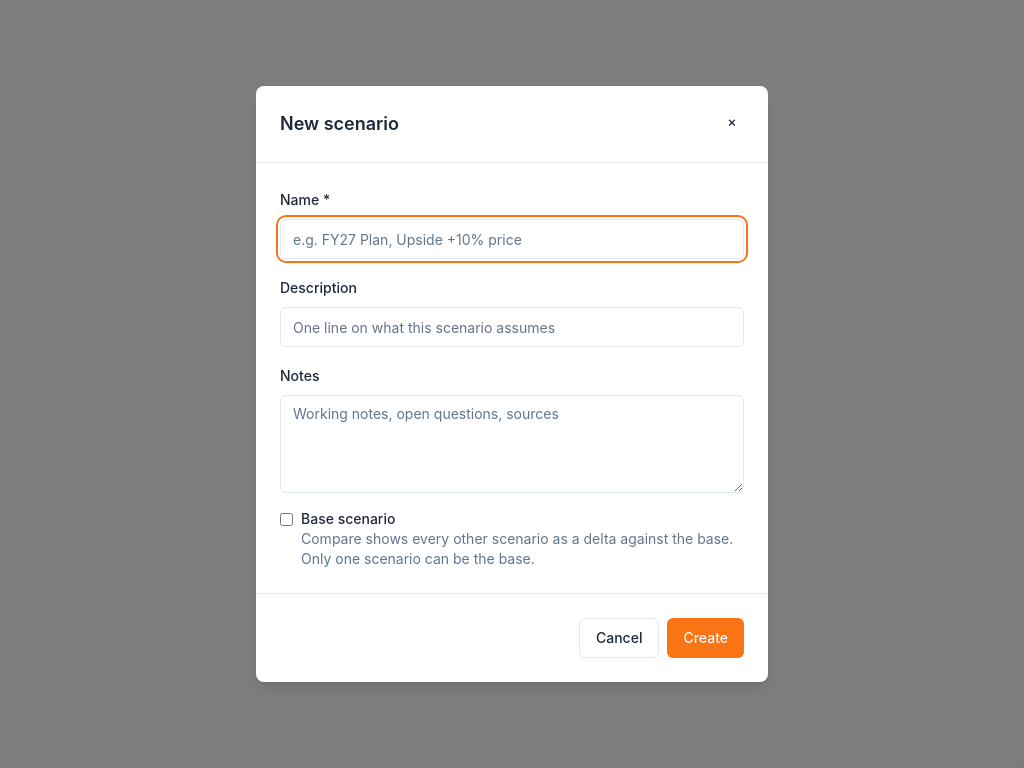
Test case: ScenarioFormModal › shows a duplicate name (409) under the name field and keeps the form open
The width and height of the screenshot is (1024, 768).
Type "2027 Budget" into the field labelled "Name *" at (512, 239), box [280,219,744,259]
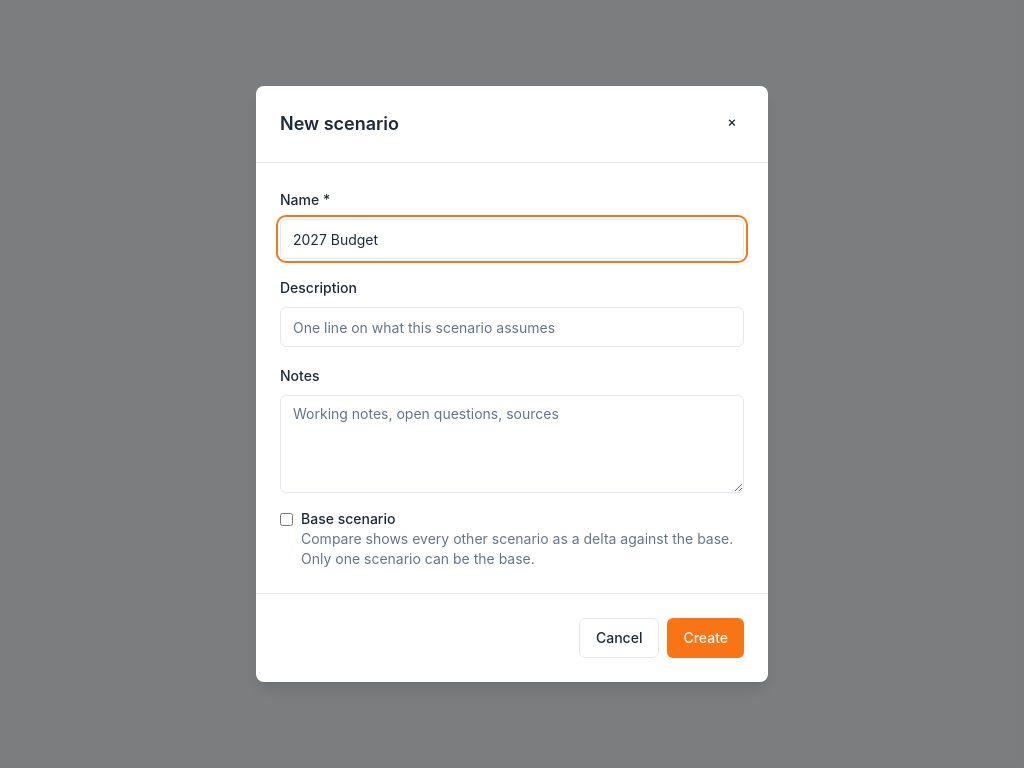
Click the button "Create" at (706, 638), box [667,618,744,658]
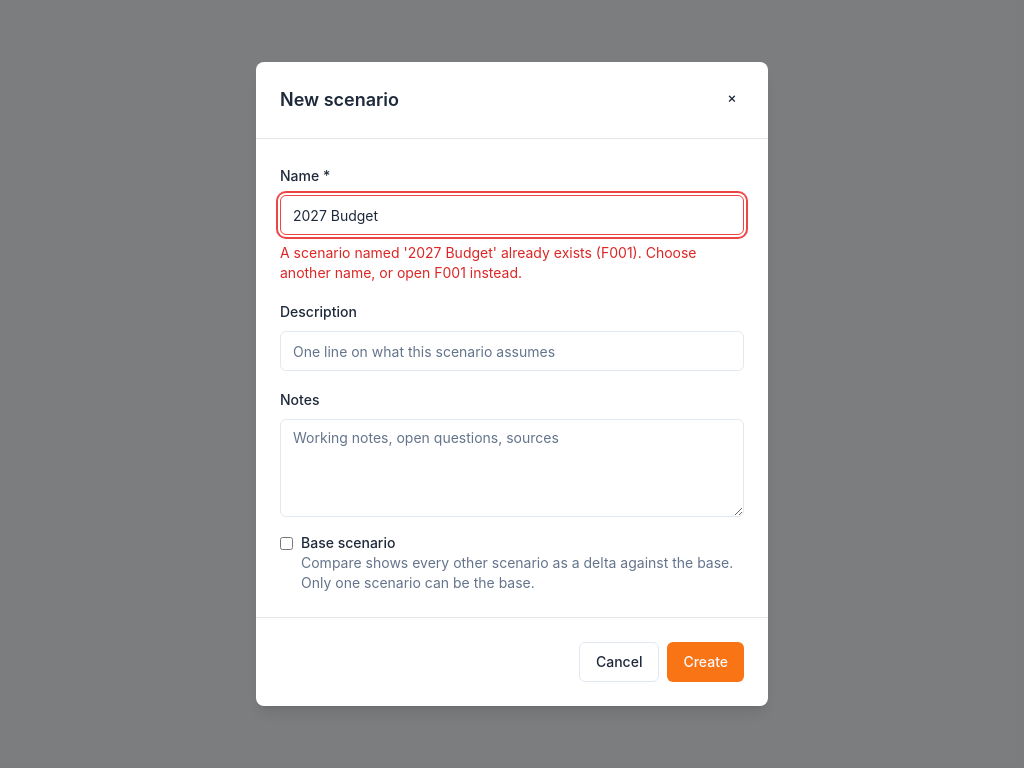
Now the field labelled "Name *" is marked as invalid
// Typing a new name clears it.
Replace the text in the field labelled "Name *" with "2027 Budget v2" at (512, 215), box [280,195,744,235]
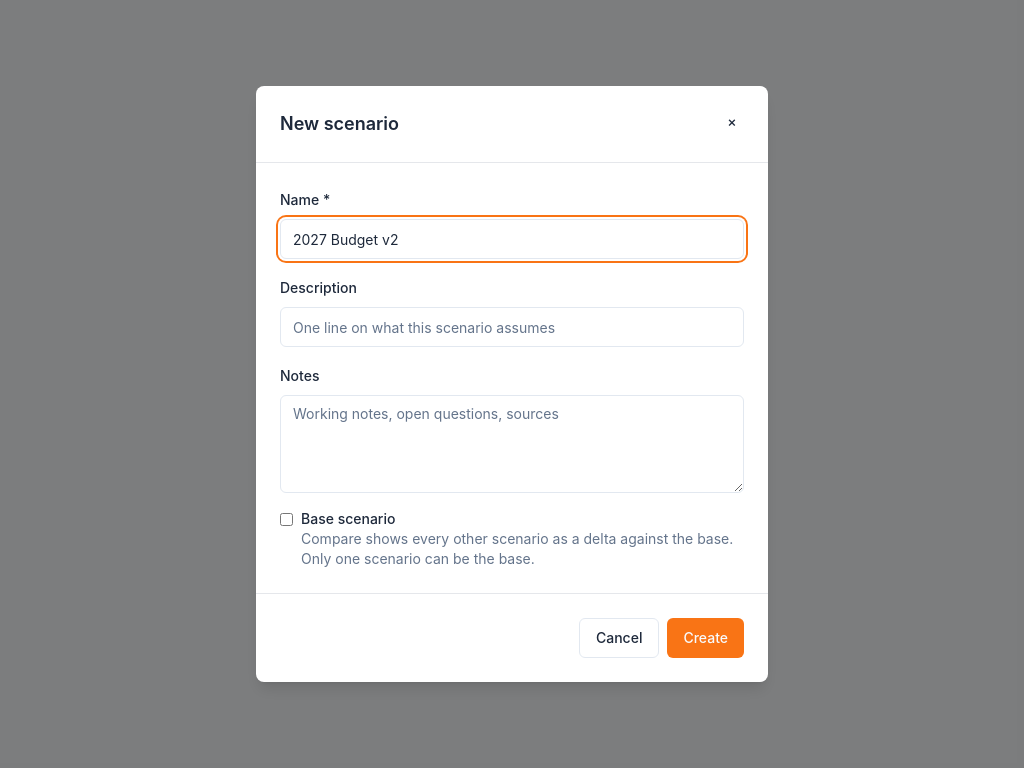
Now the text "A scenario named '2027 Budget' already exists (F001). Choose another name, or open F001 instead." is gone
